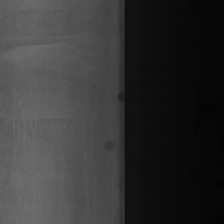oil_spot: (102, 133, 115, 157), (116, 85, 124, 105)
